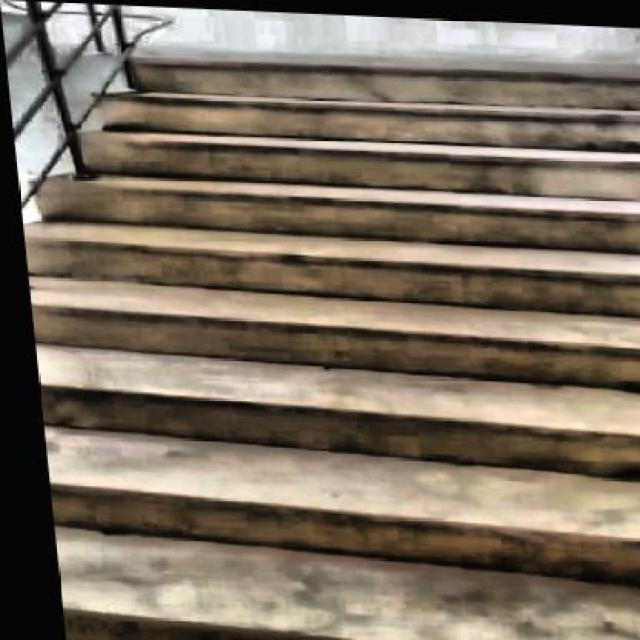stair: (3, 39, 639, 638)
